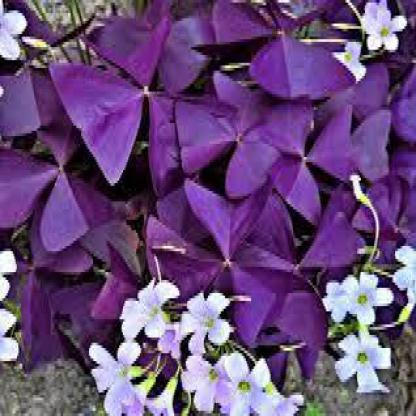Kupu-Kupu: (203, 197, 324, 354), (208, 14, 311, 179), (94, 25, 193, 174), (30, 95, 96, 252)
